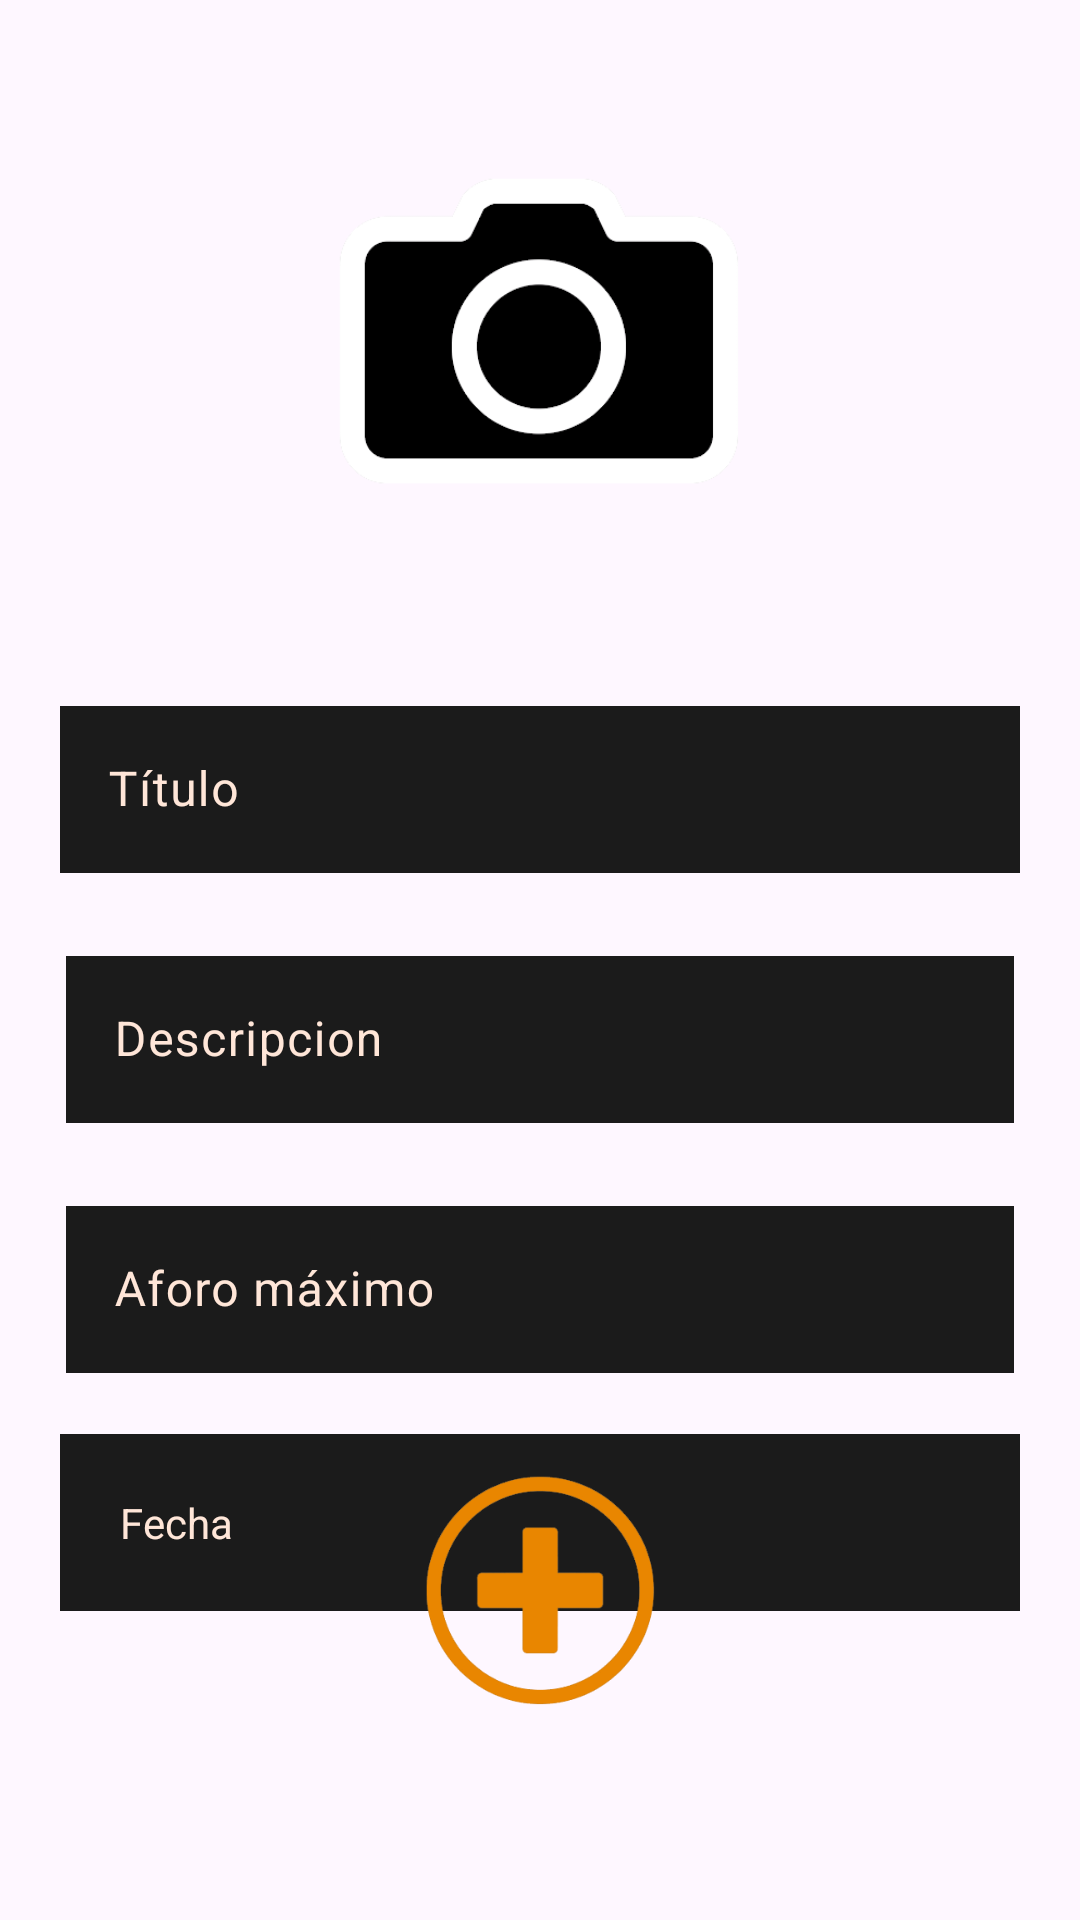

Point at icon controls on the screen. Image size 1080w x 1920h, points as [x,y].
add: [540,1590]
camara: [538,331]
